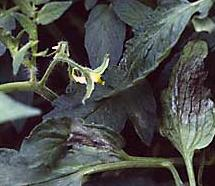Tomato leaf late blight: (0, 115, 133, 186), (155, 35, 215, 171), (117, 0, 200, 83)
